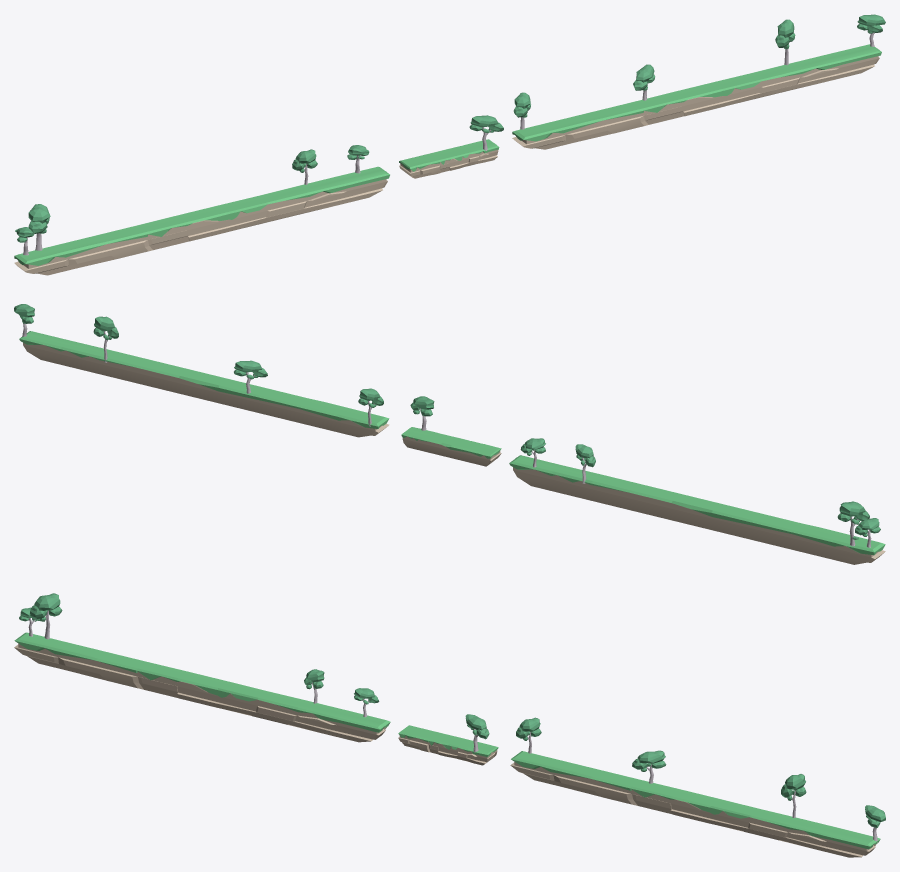
File: Level2.fbx
3 renders of one model, top to bottom at view 1: azimuth 30°, elevation 25°; view 2: azimuth 150°, elevation 25°; view 3: azimuth 330°, elevation 25°, orthographic.
Visible parts, largest first — view 1: polySurface292; view 2: polySurface292; view 3: polySurface292.
Part boxes in pixels (x1,y1,x2,y2): polySurface292: (14,14,885,275); polySurface292: (14,304,885,564); polySurface292: (14,593,885,857).
Size of the model in its own units: 333 by 23.99 by 16.1.
